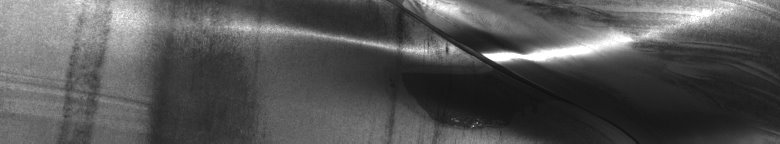ke: (232, 4, 678, 136)
